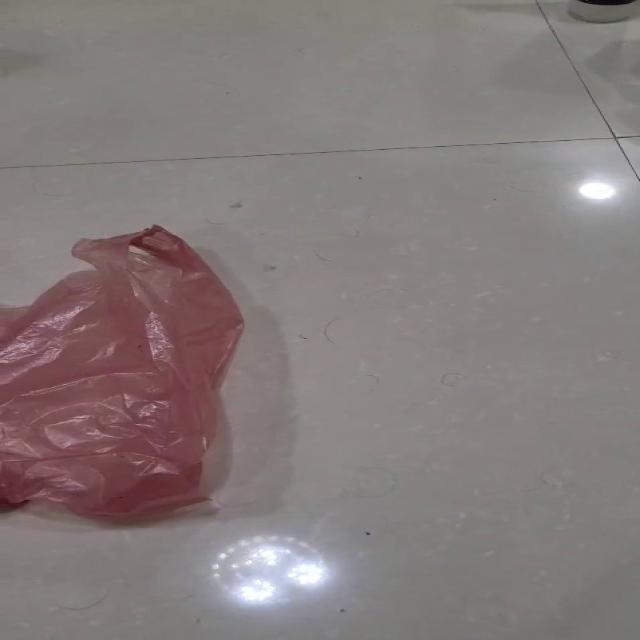plastic: (0, 223, 245, 519)
